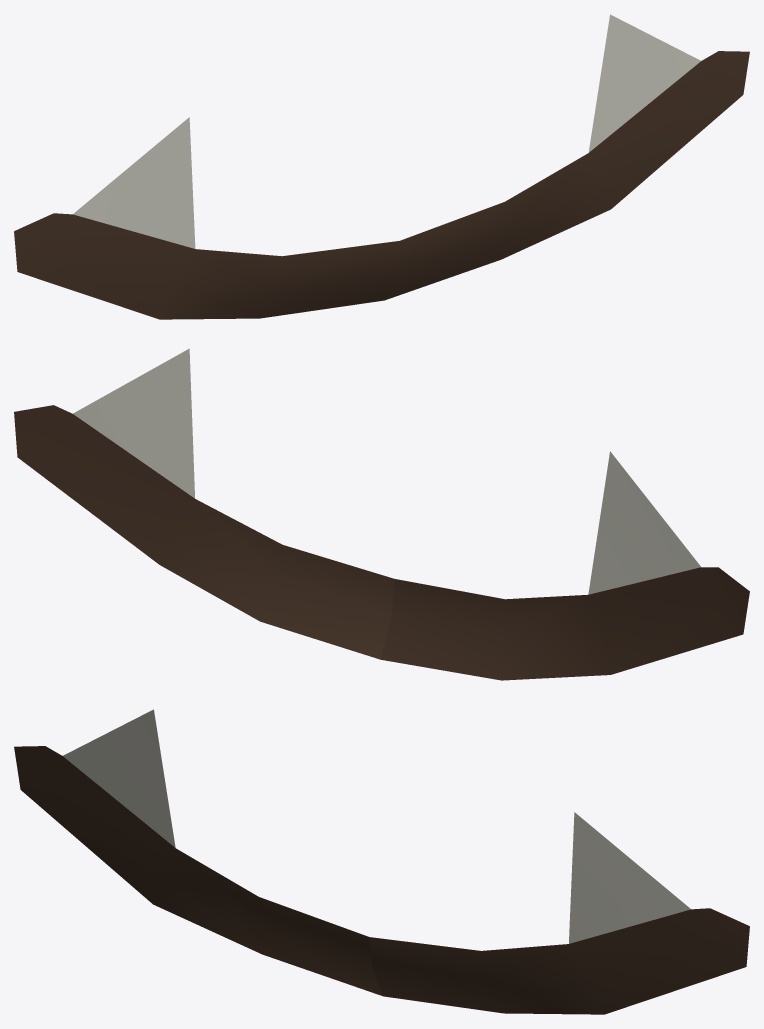
Rendered from Mouth_3.fbx.
3 views of the same model, one above another, from view 1: azimuth 30°, elevation 25°; view 2: azimuth 150°, elevation 25°; view 3: azimuth 330°, elevation 25° (orthographic).
Parts seen in each view (by area): view 1: Mouth_3; view 2: Mouth_3; view 3: Mouth_3.
Boxes of the visible parts, <box> form: Mouth_3: <box>14,14,749,319</box>; Mouth_3: <box>14,348,749,680</box>; Mouth_3: <box>14,709,749,1014</box>.
Size of the model in its own units: 11.07 by 3.56 by 0.5059.
